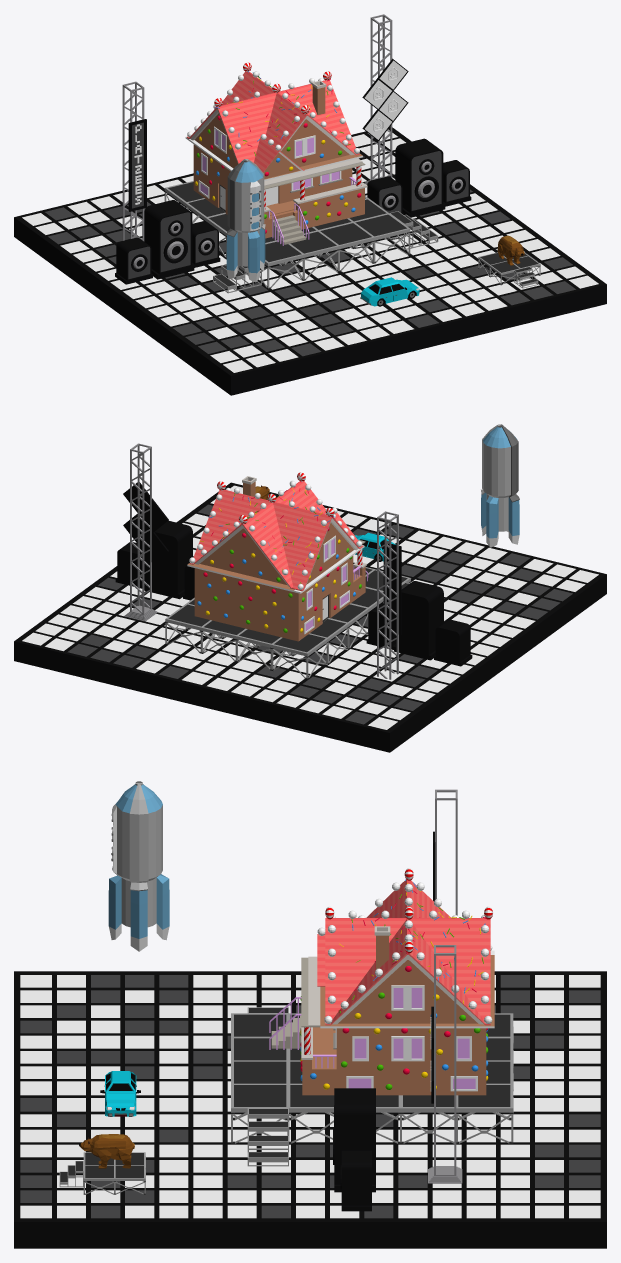
3 views of the same model, one above another, from view 1: azimuth 30°, elevation 25°; view 2: azimuth 150°, elevation 25°; view 3: azimuth 270°, elevation 25° (orthographic). The views are drawn at different scales.
Visible parts, largest first — view 1: Cube.008, Cube.1203, OBJRANDOM_ROCKETSHIP, VEHICLES_CAR, ANIMAL_OSO; view 2: Cube.008, Cube.1203, OBJRANDOM_ROCKETSHIP, VEHICLES_CAR; view 3: Cube.008, Cube.1203, OBJRANDOM_ROCKETSHIP, VEHICLES_CAR, ANIMAL_OSO.
Boxes of the visible parts, <box> form: Cube.008: <box>14,14,606,395</box>; Cube.1203: <box>185,62,367,245</box>; OBJRANDOM_ROCKETSHIP: <box>226,159,265,282</box>; VEHICLES_CAR: <box>360,277,419,306</box>; ANIMAL_OSO: <box>497,235,524,265</box>; Cube.008: <box>14,443,606,752</box>; Cube.1203: <box>187,472,368,641</box>; OBJRANDOM_ROCKETSHIP: <box>481,424,519,547</box>; VEHICLES_CAR: <box>355,532,395,561</box>; Cube.008: <box>14,789,606,1248</box>; Cube.1203: <box>269,868,494,1095</box>; OBJRANDOM_ROCKETSHIP: <box>108,781,169,951</box>; VEHICLES_CAR: <box>100,1071,140,1116</box>; ANIMAL_OSO: <box>79,1134,134,1168</box>.
Bounding box in the file's own units: 4000 × 2000 × 4000.
Materials: 48 (2 with a texture image).
